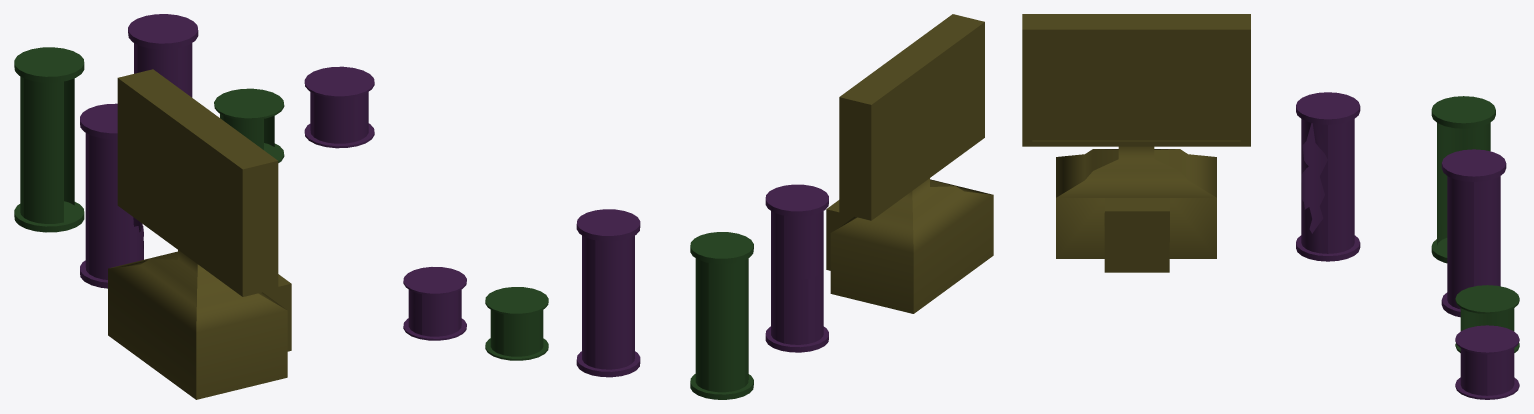
Rendered from Experimental Lab Furniture.obj.
The picture shows the model from 3 angles, left to right: view 1: azimuth 30°, elevation 25°; view 2: azimuth 150°, elevation 25°; view 3: azimuth 270°, elevation 25°; orthographic projection. The views are drawn at different scales.
Parts seen in each view (by area): view 1: Experimental_Lab_Computer, Experiment_Pod_Large_Empty, Experiment_Pod_Large_Broken, Experiment_Pod_Small, Experiment_Pod_Large, Experiment_Pod_Small_Empty; view 2: Experimental_Lab_Computer, Experiment_Pod_Large_Empty, Experiment_Pod_Large, Experiment_Pod_Large_Broken, Experiment_Pod_Small_Empty, Experiment_Pod_Small; view 3: Experimental_Lab_Computer, Experiment_Pod_Large_Broken, Experiment_Pod_Large, Experiment_Pod_Large_Empty, Experiment_Pod_Small, Experiment_Pod_Small_Empty.
Part boxes in pixels (x1,y1,x2,y2): Experimental_Lab_Computer: (108,69,291,399); Experiment_Pod_Large_Empty: (14,47,84,232); Experiment_Pod_Large_Broken: (80,103,143,288); Experiment_Pod_Small: (304,66,374,148); Experiment_Pod_Large: (128,14,198,97); Experiment_Pod_Small_Empty: (214,88,284,162); Experimental_Lab_Computer: (826,14,993,313); Experiment_Pod_Large_Empty: (690,232,753,399); Experiment_Pod_Large: (576,209,640,377); Experiment_Pod_Large_Broken: (765,184,828,352); Experiment_Pod_Small_Empty: (485,287,548,360); Experiment_Pod_Small: (403,267,466,340); Experimental_Lab_Computer: (1022,14,1250,272); Experiment_Pod_Large_Broken: (1296,92,1360,261); Experiment_Pod_Large: (1441,149,1506,317); Experiment_Pod_Large_Empty: (1431,96,1495,263); Experiment_Pod_Small: (1455,325,1519,399); Experiment_Pod_Small_Empty: (1455,285,1519,352).
Size of the model in its own units: 13.44 by 7.43 by 15.46.
